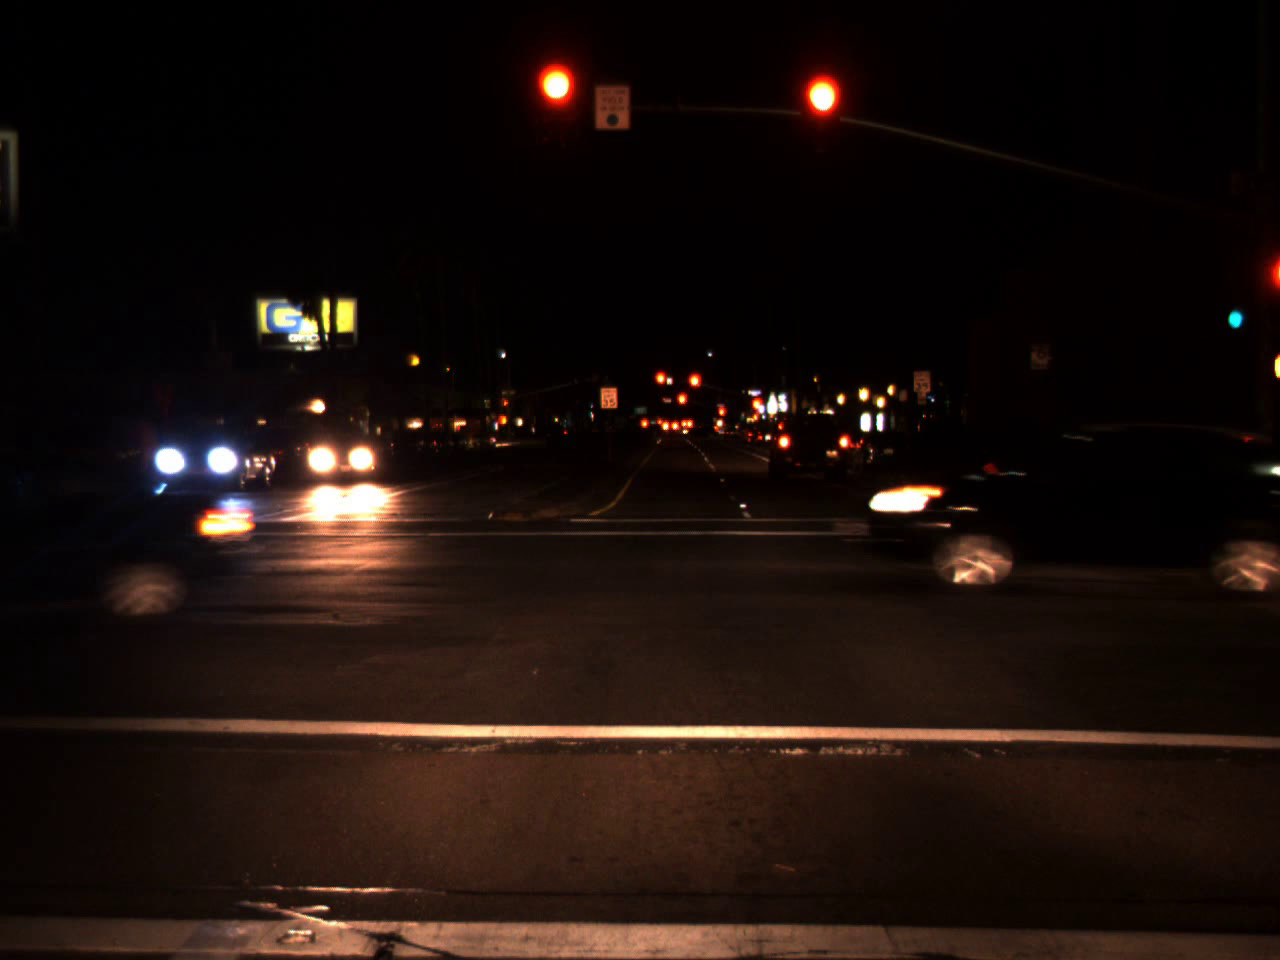stop: (538, 65, 578, 143), (802, 75, 842, 153), (686, 371, 703, 403), (653, 369, 668, 401), (676, 391, 688, 418), (749, 396, 764, 412), (717, 406, 724, 424), (503, 398, 509, 414)
